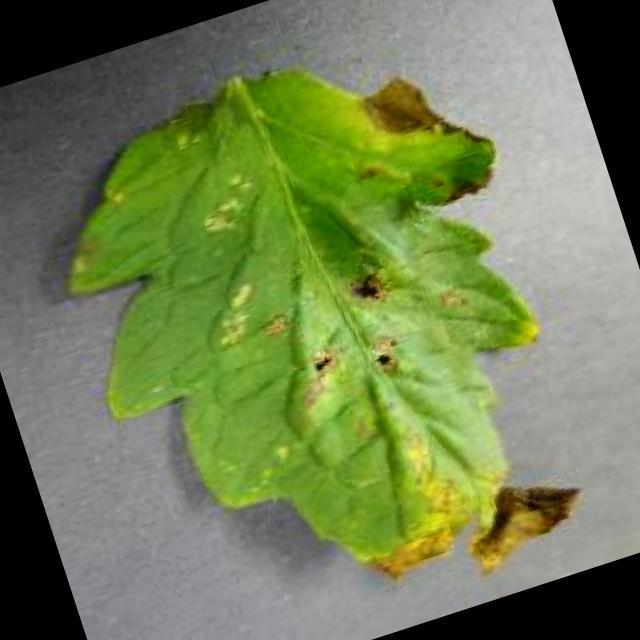Tomato bacterial spot leaf: (19, 13, 625, 640)
